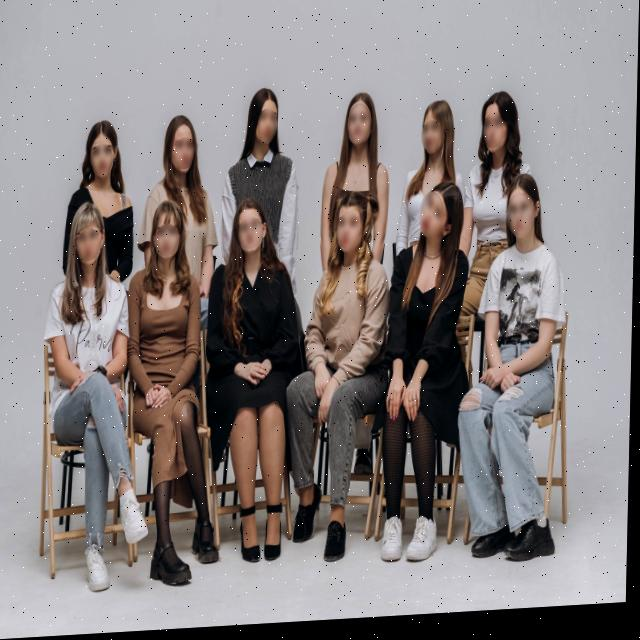Person: (40, 196, 155, 612), (128, 200, 234, 608), (290, 195, 400, 575), (470, 172, 572, 580), (378, 182, 470, 571), (210, 197, 302, 575), (464, 87, 517, 293), (224, 81, 299, 212), (150, 95, 215, 211), (330, 90, 390, 208), (65, 113, 134, 212), (404, 97, 457, 219)
